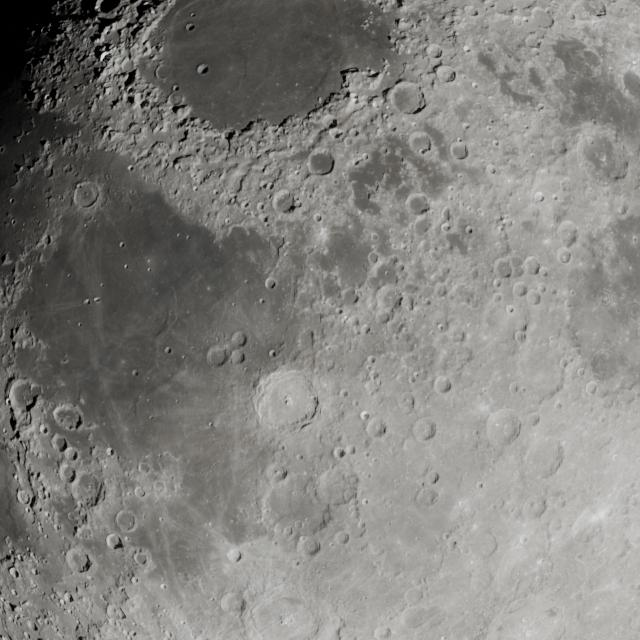crater: (526, 437, 564, 478), (484, 407, 522, 444), (460, 524, 498, 560), (387, 81, 422, 114), (8, 380, 37, 414), (52, 404, 84, 431), (374, 284, 401, 313), (306, 149, 334, 175), (74, 181, 100, 208), (65, 548, 91, 574), (527, 6, 555, 29), (408, 131, 433, 156), (404, 193, 430, 216), (413, 417, 436, 442), (556, 220, 578, 246), (524, 495, 548, 518), (414, 487, 439, 509), (272, 190, 294, 213), (365, 416, 387, 438), (115, 510, 137, 532), (220, 592, 242, 614), (206, 346, 228, 367), (298, 536, 320, 556), (403, 586, 423, 607), (449, 141, 469, 161), (522, 256, 542, 275), (435, 65, 456, 83), (494, 259, 513, 278), (413, 214, 431, 234), (434, 376, 452, 394), (106, 533, 124, 551), (534, 557, 552, 575), (59, 463, 76, 482), (51, 434, 68, 452), (270, 466, 288, 482), (426, 43, 444, 59), (398, 294, 414, 312), (231, 330, 247, 347), (230, 349, 246, 365), (155, 64, 171, 80), (321, 113, 337, 129), (398, 394, 414, 410), (119, 57, 135, 73), (226, 547, 241, 563), (512, 282, 528, 297), (526, 290, 542, 305), (450, 328, 466, 343), (557, 249, 572, 264), (374, 625, 390, 639), (168, 92, 184, 106), (525, 34, 541, 48), (17, 489, 31, 505), (585, 380, 598, 396), (2, 251, 15, 267), (335, 531, 349, 545), (426, 471, 440, 485), (134, 552, 148, 566), (377, 312, 391, 326), (333, 446, 346, 460), (367, 251, 380, 265), (514, 330, 527, 344), (617, 203, 630, 216), (196, 63, 210, 75), (264, 278, 277, 290), (486, 163, 498, 176), (528, 413, 540, 426), (134, 486, 146, 498), (138, 462, 150, 474), (508, 382, 520, 394), (154, 480, 165, 493), (533, 191, 545, 202), (42, 234, 52, 247), (441, 222, 452, 233), (346, 444, 356, 456), (10, 567, 20, 579), (360, 410, 370, 421), (185, 22, 196, 32), (40, 424, 50, 435), (63, 593, 73, 604), (546, 608, 557, 618), (313, 213, 323, 223), (367, 354, 377, 364), (492, 278, 502, 288), (554, 400, 564, 410), (465, 226, 474, 235), (506, 305, 515, 314), (164, 346, 173, 354), (268, 349, 276, 358), (106, 447, 114, 456), (476, 481, 484, 490), (340, 389, 349, 397), (357, 520, 365, 529), (131, 369, 139, 377), (132, 576, 140, 584), (437, 323, 445, 331), (126, 165, 134, 172), (93, 296, 101, 303), (160, 582, 167, 590), (362, 498, 369, 506), (83, 298, 90, 305), (207, 421, 214, 428), (258, 298, 266, 304), (118, 242, 125, 248), (8, 198, 14, 205), (123, 264, 129, 270), (77, 322, 83, 328)
rock: (338, 59, 356, 86), (6, 599, 18, 619), (38, 138, 48, 148), (13, 162, 22, 172)
